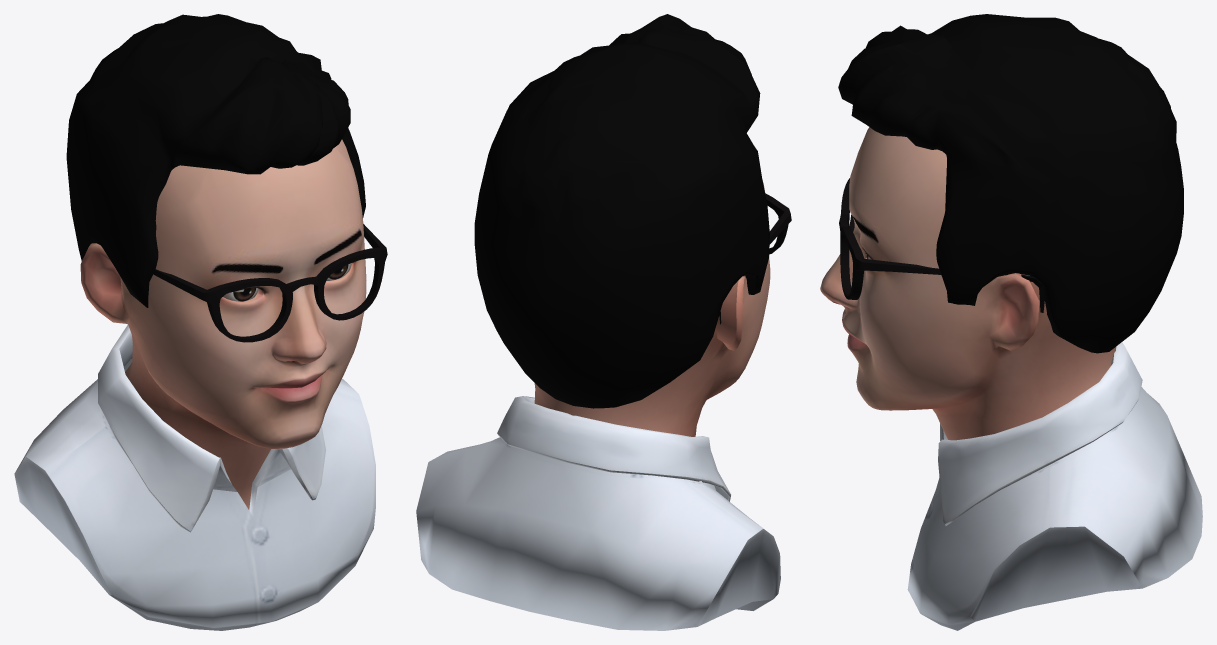
The model's file is hosukPinataHead.glb.
3 views of the same model, side by side, from view 1: azimuth 30°, elevation 25°; view 2: azimuth 150°, elevation 25°; view 3: azimuth 270°, elevation 25° (orthographic).
Parts seen in each view (by area): view 1: Wolf3D_Shirt, Wolf3D_Head, Wolf3D_Hair, Wolf3D_Glasses; view 2: Wolf3D_Hair, Wolf3D_Shirt, Wolf3D_Head, Wolf3D_Glasses; view 3: Wolf3D_Hair, Wolf3D_Shirt, Wolf3D_Head, Wolf3D_Glasses.
Part boxes in pixels (x1,y1,x2,y2): Wolf3D_Shirt: (14, 325, 375, 630); Wolf3D_Head: (80, 139, 366, 509); Wolf3D_Hair: (66, 14, 365, 307); Wolf3D_Glasses: (152, 224, 387, 342); Wolf3D_Hair: (474, 14, 769, 408); Wolf3D_Shirt: (416, 396, 780, 630); Wolf3D_Head: (534, 179, 770, 436); Wolf3D_Glasses: (719, 193, 791, 324); Wolf3D_Hair: (838, 14, 1183, 353); Wolf3D_Shirt: (907, 342, 1202, 630); Wolf3D_Head: (820, 127, 1116, 440); Wolf3D_Glasses: (839, 178, 1044, 312).
Size of the model in its own units: 0.2312 by 0.3928 by 0.2379.
6 materials, 5 textured.
